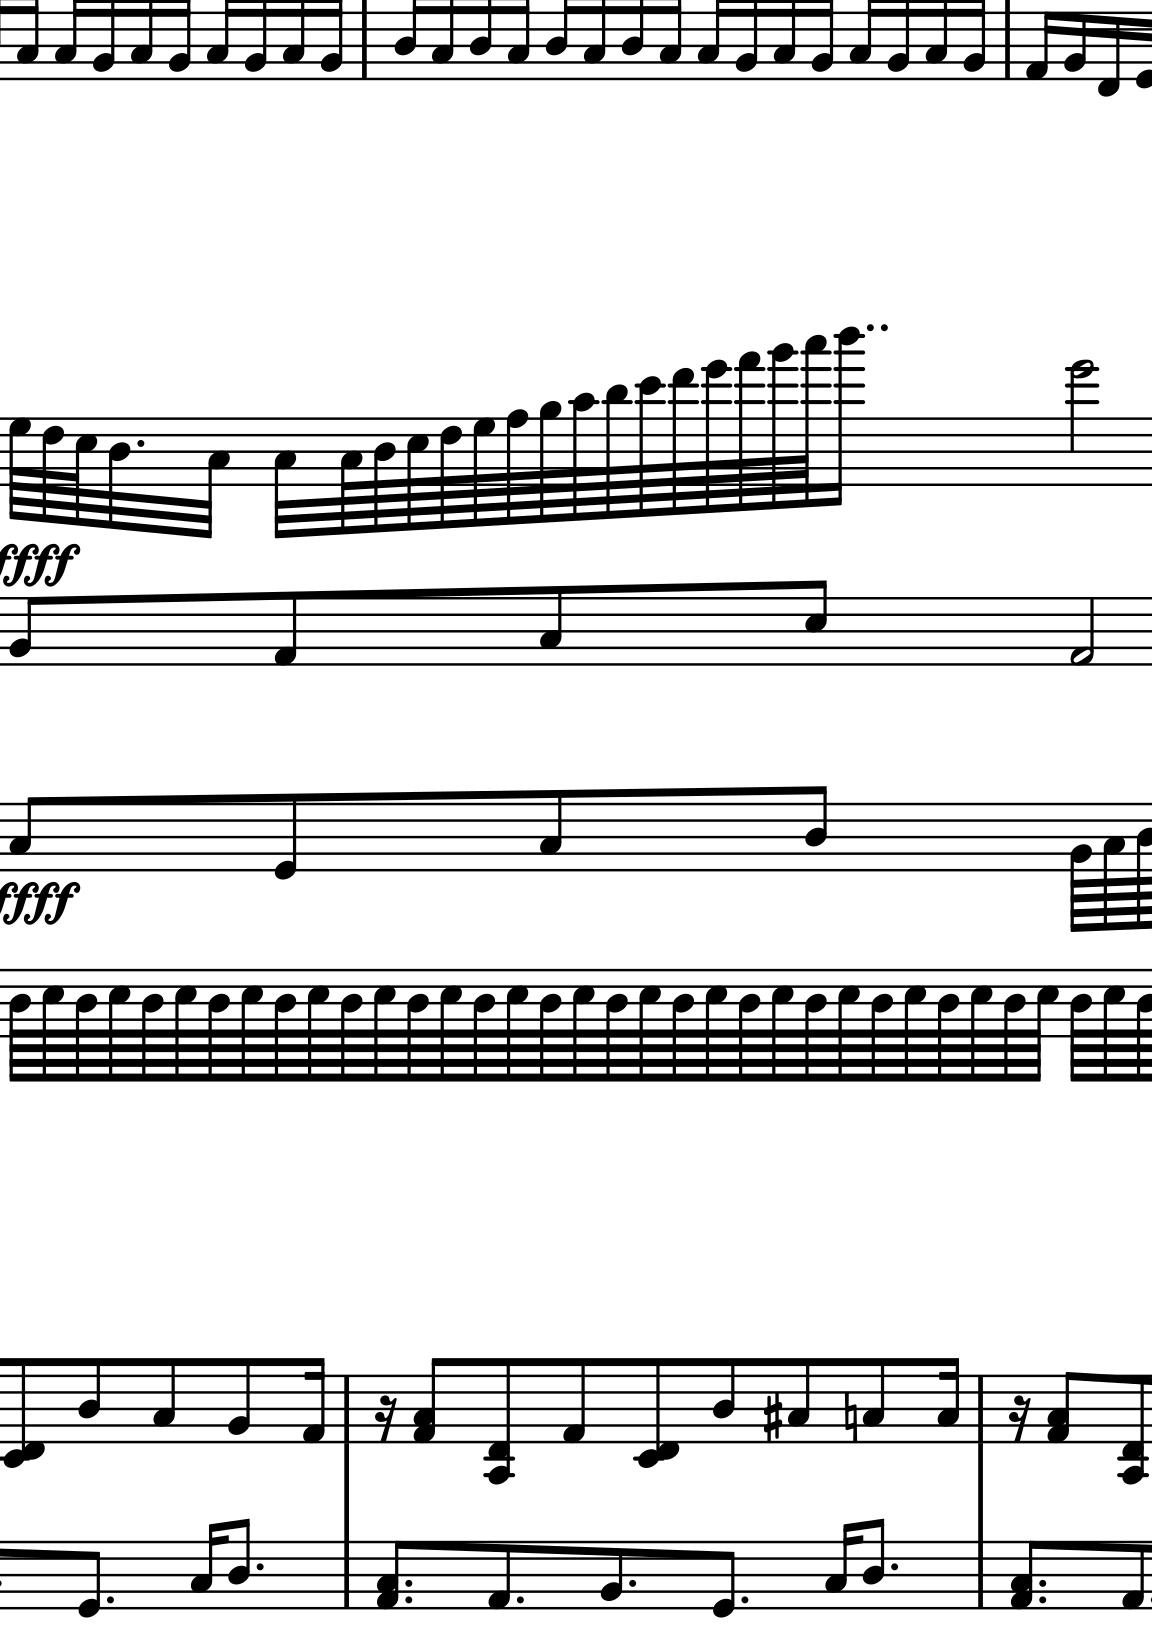16_-1: (1095, 10, 1122, 98)
16_1: (1024, 7, 1056, 83), (300, 1356, 325, 1446)
16_18: (832, 324, 864, 507)
16_2: (1063, 11, 1088, 83)
16_3: (823, 1520, 863, 1609), (190, 1520, 226, 1610), (936, 1356, 960, 1446)
2_1: (1067, 597, 1098, 667)
2_14: (1066, 356, 1098, 487)
32_3: (198, 412, 232, 541), (274, 416, 297, 540)
32_4: (107, 416, 131, 535)
64_10: (569, 393, 598, 523)
64_11: (601, 383, 633, 518)
64_12: (633, 375, 665, 518)
64_13: (666, 366, 699, 517)
64_14: (701, 358, 733, 516)
64_15: (733, 350, 766, 512)
64_16: (767, 340, 799, 510)
64_17: (798, 334, 832, 510)
64_2: (1068, 806, 1092, 933)
64_3: (1101, 804, 1126, 930)
64_4: (372, 416, 396, 535), (6, 967, 31, 1085), (74, 968, 98, 1084), (603, 968, 628, 1084), (1068, 968, 1093, 1084), (405, 970, 430, 1084), (803, 970, 828, 1084), (140, 970, 165, 1083), (272, 970, 297, 1083), (539, 970, 564, 1083), (206, 968, 229, 1084), (339, 968, 363, 1084), (737, 968, 761, 1084), (671, 970, 694, 1084), (936, 970, 960, 1084), (1002, 968, 1025, 1085), (473, 968, 495, 1084), (870, 968, 893, 1084), (1135, 970, 1152, 1085)
64_5: (1029, 966, 1060, 1085), (69, 414, 98, 530), (339, 415, 365, 536), (570, 968, 597, 1083), (404, 416, 430, 532), (40, 967, 66, 1083), (172, 967, 198, 1083), (438, 967, 464, 1083), (703, 968, 729, 1083), (901, 968, 928, 1083), (770, 966, 797, 1080), (106, 967, 131, 1083), (305, 967, 330, 1083), (239, 968, 264, 1083), (372, 968, 396, 1083), (504, 968, 529, 1083), (637, 968, 662, 1083), (837, 968, 862, 1083), (969, 968, 994, 1083), (1103, 966, 1128, 1080)
64_6: (439, 416, 463, 530)
64_7: (6, 416, 32, 525), (473, 416, 495, 528)
64_8: (505, 409, 529, 526)
64_9: (537, 400, 562, 523)
8_-2_-1: (1, 1357, 47, 1469), (635, 1355, 681, 1467)
8_-4_-1: (482, 1357, 517, 1487), (1118, 1373, 1151, 1484)
8_0: (273, 793, 300, 882), (76, 1539, 103, 1620), (711, 1539, 738, 1620)
8_1: (559, 1357, 587, 1446), (271, 591, 299, 668), (485, 1540, 512, 1611), (1120, 1540, 1145, 1611)
8_1_3: (411, 1356, 449, 1442), (1046, 1370, 1082, 1446), (1007, 1539, 1042, 1611), (377, 1538, 410, 1610)
8_2: (224, 1356, 253, 1446), (9, 596, 41, 668), (598, 1540, 623, 1613)
8_3: (7, 794, 42, 872), (150, 1357, 177, 1446), (785, 1357, 813, 1446), (539, 584, 565, 668), (862, 1357, 886, 1444), (539, 789, 564, 874)
8_4: (709, 1356, 738, 1446), (76, 1357, 102, 1446), (804, 784, 828, 874), (228, 1518, 251, 1611), (864, 1518, 886, 1610)
8_5: (803, 579, 829, 667)
Double_dot: (864, 322, 891, 336)
Natural: (842, 1391, 860, 1446)
Rests16: (1006, 1394, 1034, 1446), (372, 1393, 398, 1446)
Sharp: (761, 1392, 784, 1446)
Single_barline: (353, 2, 375, 81), (333, 1375, 358, 1443), (969, 1375, 991, 1443), (997, 4, 1017, 80), (337, 1540, 357, 1609), (972, 1542, 990, 1609)
dot: (625, 1575, 640, 1593), (512, 1591, 527, 1609), (253, 1559, 267, 1575), (888, 1559, 901, 1575), (401, 1576, 415, 1591), (401, 1593, 415, 1608), (1037, 1576, 1050, 1591), (103, 1593, 116, 1608), (738, 1593, 751, 1608), (133, 437, 146, 451), (1036, 1593, 1049, 1606)
fffff: (1, 540, 82, 589), (1, 879, 82, 928)
